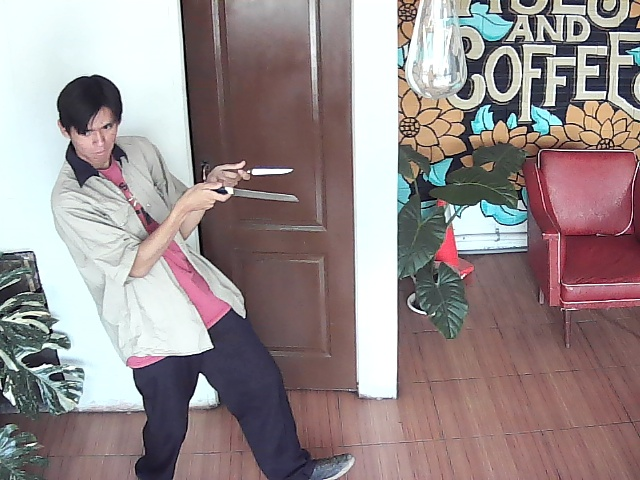cuchillo: (207, 186, 306, 212), (216, 156, 301, 182)
